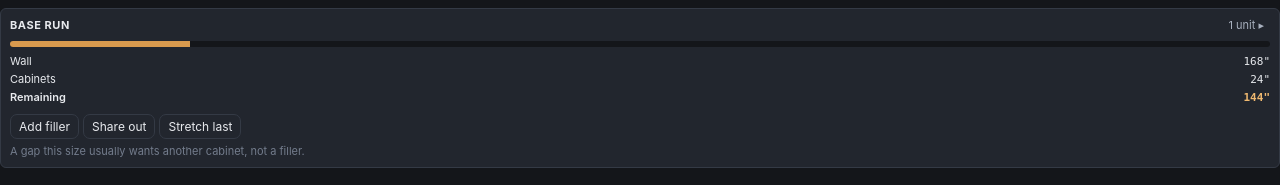
Test: RunStatusBar › drops the gap-closing controls once the run fills the wall
Click the button "Stretch last": (200, 126) [160,114,242,139]
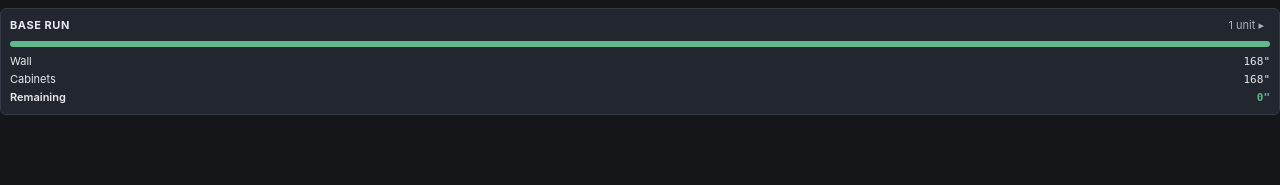
expect the button "Add filler" is gone: met
expect the button "Share out" is gone: met
